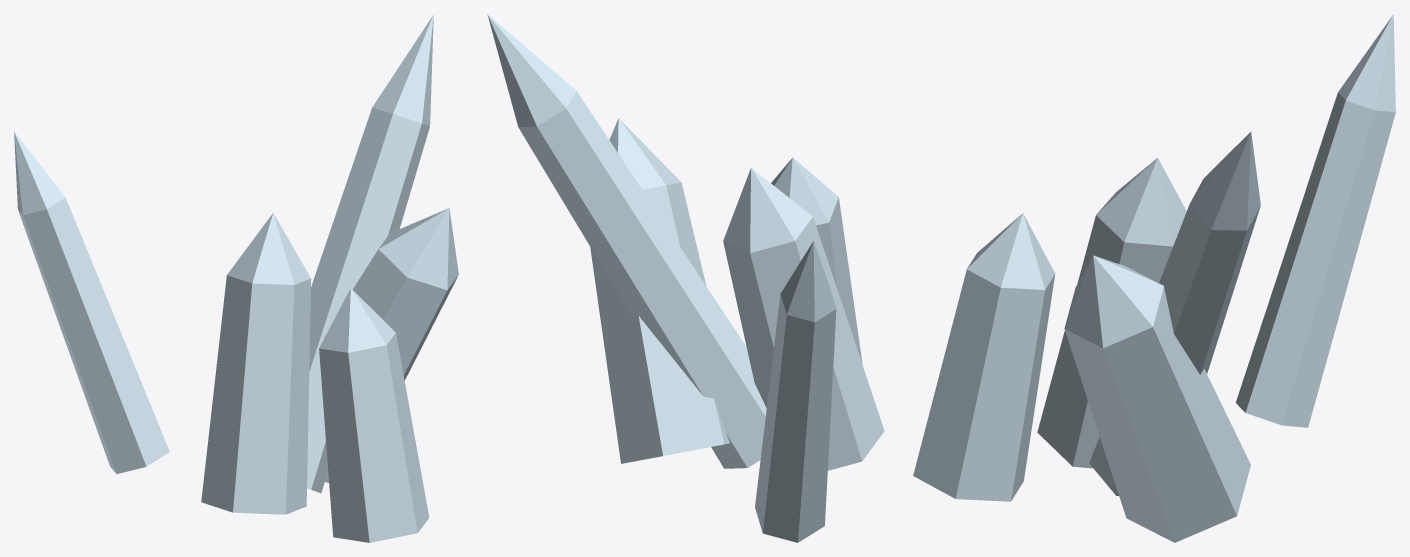
The picture shows the model from 3 angles, left to right: view 1: azimuth 30°, elevation 25°; view 2: azimuth 150°, elevation 25°; view 3: azimuth 270°, elevation 25°; orthographic projection. The views are drawn at different scales.
Parts seen in each view (by area): view 1: SC_FrostIceShards; view 2: SC_FrostIceShards; view 3: SC_FrostIceShards.
Boxes of the visible parts, x1,y1,x2,y2 form: SC_FrostIceShards: (14,15,458,542); SC_FrostIceShards: (487,14,884,542); SC_FrostIceShards: (913,14,1395,542).
Size of the model in its own units: 0.8574 by 0.9098 by 0.8427.
